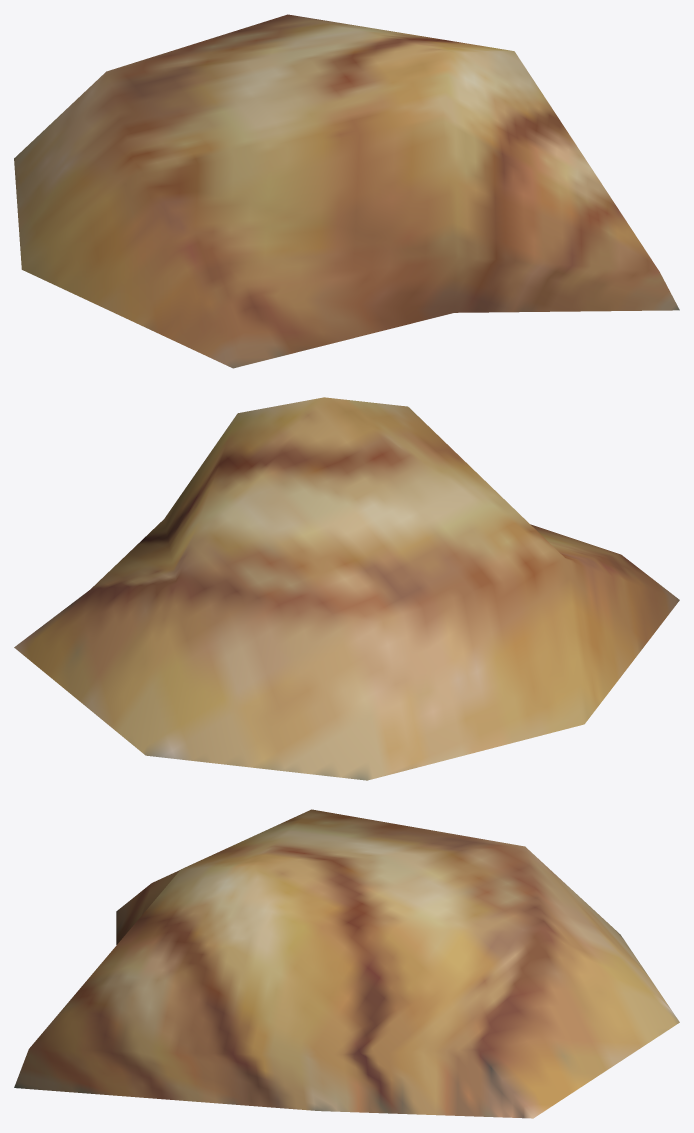
The model's file is environment_common_seabeike_003_c.FBX.
The picture shows the model from 3 angles, top to bottom: view 1: azimuth 30°, elevation 25°; view 2: azimuth 150°, elevation 25°; view 3: azimuth 270°, elevation 25°; orthographic projection. The views are drawn at different scales.
Parts seen in each view (by area): view 1: environment_common_seabeike_003_c; view 2: environment_common_seabeike_003_c; view 3: environment_common_seabeike_003_c.
Boxes of the visible parts, x1,y1,x2,y2 form: environment_common_seabeike_003_c: [14, 14, 679, 368]; environment_common_seabeike_003_c: [14, 397, 679, 780]; environment_common_seabeike_003_c: [14, 809, 679, 1118].
Size of the model in its own units: 39.63 by 14.02 by 47.37.
